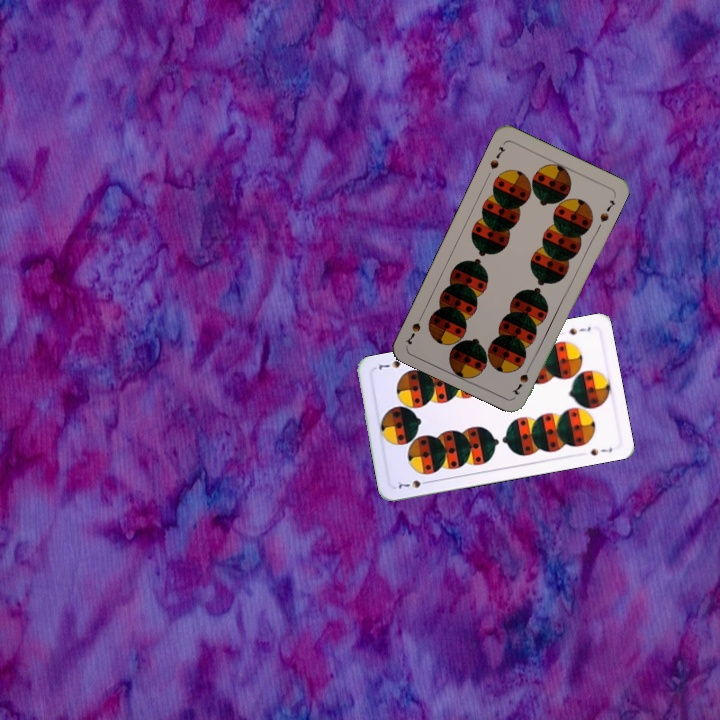S7: (508, 360, 534, 398), (486, 142, 508, 172), (393, 476, 433, 491), (565, 322, 593, 338)
